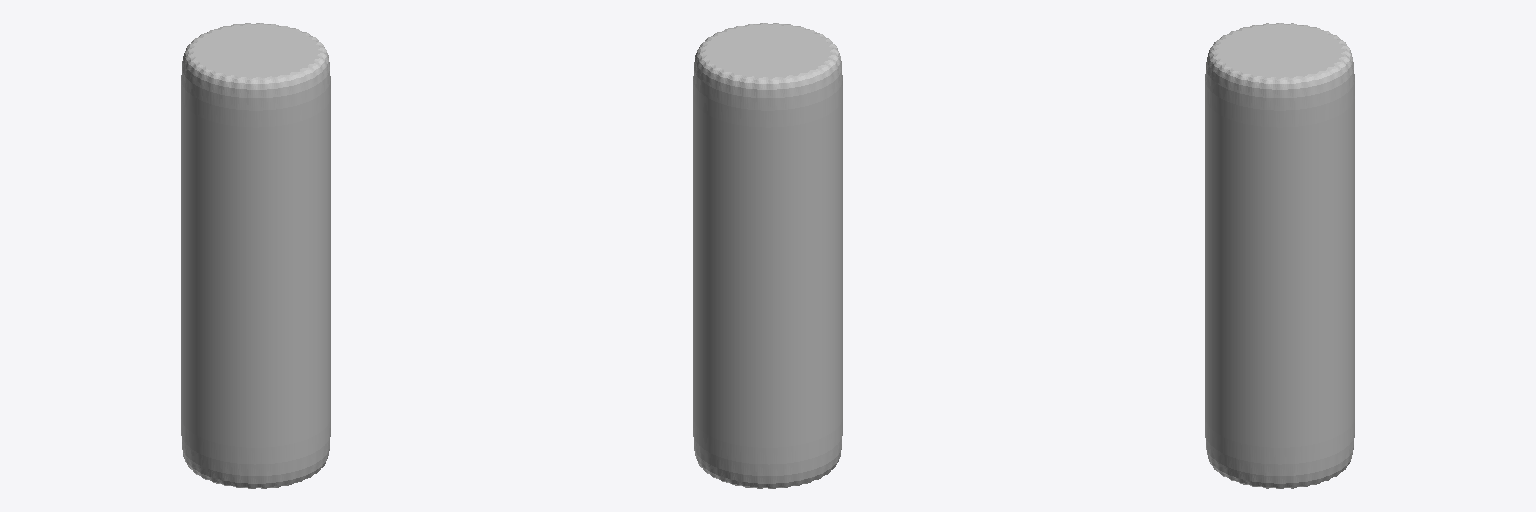
Rendered from walec.obj.
3 renders of one model, left to right at view 1: azimuth 30°, elevation 25°; view 2: azimuth 150°, elevation 25°; view 3: azimuth 270°, elevation 25°, orthographic.
Size of the model in its own units: 1.99 by 6 by 1.99.